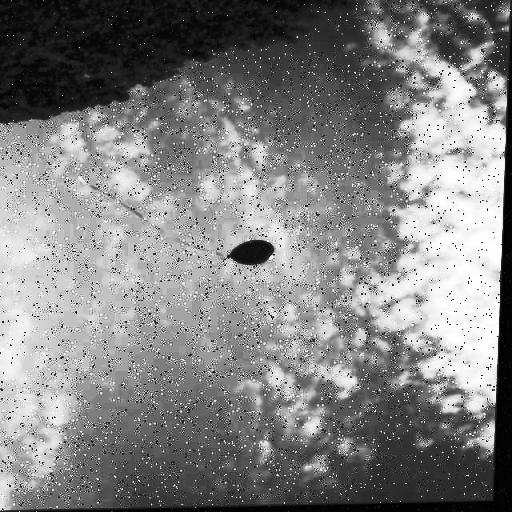balloon: (226, 242, 278, 270)
